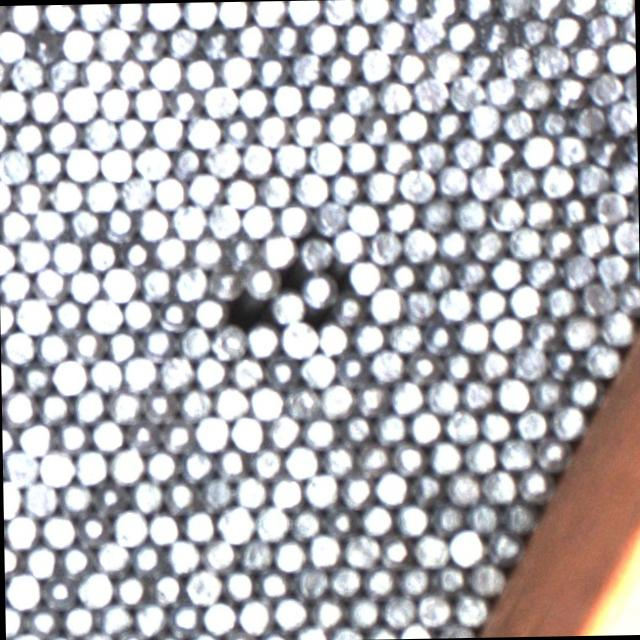tool: (21, 479, 58, 516), (296, 233, 332, 270), (562, 311, 598, 348), (63, 146, 99, 182), (358, 500, 394, 536), (14, 298, 50, 334), (98, 145, 134, 181), (572, 160, 608, 196), (378, 136, 414, 172), (558, 250, 594, 286), (580, 279, 616, 315), (204, 140, 240, 176), (108, 447, 144, 483), (418, 256, 454, 292), (196, 474, 232, 510), (82, 176, 118, 212), (37, 449, 73, 485), (342, 532, 378, 568), (216, 506, 252, 542), (472, 284, 507, 320), (237, 596, 272, 632), (233, 472, 268, 508), (367, 286, 402, 322), (320, 441, 356, 476), (2, 449, 37, 485), (342, 138, 378, 173), (202, 598, 237, 634), (272, 594, 308, 629), (303, 471, 338, 507), (248, 444, 284, 479), (498, 42, 533, 78), (582, 341, 618, 376), (222, 174, 258, 209), (58, 478, 93, 514), (341, 80, 376, 116), (54, 418, 90, 453), (96, 601, 132, 636), (510, 343, 546, 378), (481, 467, 516, 503), (57, 542, 92, 578), (310, 594, 345, 630), (394, 106, 430, 141), (15, 236, 50, 272), (386, 318, 421, 354), (230, 414, 265, 450), (152, 233, 188, 268), (307, 138, 342, 174), (164, 22, 199, 58), (68, 326, 103, 362), (170, 202, 205, 238), (100, 206, 136, 241), (201, 536, 236, 572), (486, 194, 522, 229), (122, 354, 158, 389), (268, 20, 303, 56), (80, 116, 116, 151), (394, 500, 429, 536), (489, 313, 524, 349), (253, 504, 288, 540), (306, 531, 341, 567), (582, 10, 617, 46), (3, 512, 38, 548), (212, 384, 248, 419), (388, 378, 424, 413), (336, 410, 372, 445), (300, 273, 336, 308), (186, 170, 221, 206), (258, 232, 294, 267), (264, 353, 300, 388), (92, 478, 127, 514), (183, 568, 220, 602), (224, 233, 258, 270), (498, 435, 533, 470), (230, 353, 265, 388), (350, 320, 385, 355), (503, 163, 538, 198), (221, 566, 256, 601), (77, 571, 112, 606), (27, 86, 62, 121), (17, 420, 52, 455), (1, 329, 36, 364), (402, 287, 437, 322), (201, 82, 236, 117), (248, 384, 283, 419), (22, 543, 57, 578), (71, 387, 106, 422), (45, 116, 80, 151), (418, 195, 453, 230), (475, 345, 510, 380), (134, 144, 169, 179), (413, 531, 448, 566), (193, 414, 228, 449), (506, 223, 541, 258), (459, 376, 494, 411), (268, 473, 303, 508), (521, 192, 556, 227), (35, 389, 70, 424), (164, 86, 199, 121), (86, 296, 121, 331), (453, 256, 488, 291), (243, 264, 278, 299), (469, 225, 504, 260), (407, 14, 442, 49), (311, 200, 346, 235), (530, 374, 565, 409), (447, 73, 482, 108), (140, 389, 175, 424), (353, 380, 388, 415), (484, 528, 519, 563), (284, 443, 318, 479), (380, 592, 416, 626), (555, 130, 589, 166), (428, 438, 462, 474), (507, 282, 541, 318), (114, 114, 150, 148), (130, 476, 164, 512), (292, 170, 328, 204), (66, 266, 102, 300), (272, 536, 306, 572), (192, 294, 226, 330), (324, 108, 358, 144), (408, 408, 442, 444), (60, 602, 96, 636), (338, 472, 372, 508), (374, 470, 408, 506), (97, 84, 131, 120), (398, 166, 432, 202), (462, 438, 498, 472), (174, 264, 208, 300), (382, 196, 416, 232), (416, 590, 450, 626), (362, 562, 396, 598), (426, 46, 462, 80), (194, 352, 228, 388), (368, 348, 404, 382), (300, 352, 336, 386), (270, 80, 304, 116), (430, 106, 464, 142), (598, 308, 634, 342), (34, 328, 68, 364), (288, 48, 322, 84), (158, 354, 192, 390), (404, 348, 440, 382), (444, 406, 478, 442), (434, 162, 468, 198), (178, 384, 212, 420), (24, 603, 60, 637), (412, 74, 446, 110), (40, 512, 74, 548), (266, 412, 300, 448), (594, 250, 630, 284), (332, 292, 368, 326), (544, 344, 580, 378), (440, 346, 474, 382), (514, 468, 550, 502), (239, 141, 273, 176), (6, 572, 40, 607), (102, 265, 136, 300), (96, 24, 130, 59), (449, 134, 484, 168), (456, 316, 490, 351), (74, 448, 108, 483), (258, 172, 292, 207), (48, 177, 82, 212), (152, 173, 186, 208), (282, 321, 316, 356), (254, 111, 288, 146), (373, 16, 407, 51), (147, 570, 182, 604), (106, 388, 140, 423), (372, 410, 407, 444), (273, 140, 307, 175), (50, 237, 84, 272), (328, 169, 362, 204), (62, 84, 96, 119), (339, 19, 373, 54), (303, 20, 338, 54), (179, 447, 213, 482), (453, 196, 488, 230), (120, 295, 154, 330), (289, 110, 324, 144), (175, 324, 210, 358), (514, 406, 548, 441), (355, 442, 390, 476), (442, 16, 477, 50), (60, 25, 94, 60), (185, 114, 220, 148), (453, 591, 488, 625), (327, 562, 362, 596), (118, 173, 152, 208), (52, 358, 86, 393), (104, 326, 139, 360), (10, 118, 44, 153), (570, 102, 604, 137), (1, 390, 35, 425), (445, 470, 480, 504), (276, 201, 310, 236), (94, 538, 129, 572), (436, 286, 471, 320), (526, 315, 560, 350), (302, 413, 336, 448), (576, 220, 611, 254), (346, 199, 380, 234), (479, 407, 513, 442), (208, 266, 242, 301), (430, 500, 465, 534), (377, 78, 412, 112), (156, 298, 191, 332), (433, 560, 467, 595), (190, 234, 224, 269), (12, 178, 46, 213), (476, 18, 511, 52), (358, 46, 392, 81), (32, 266, 67, 300), (181, 508, 216, 542), (366, 228, 400, 263), (130, 539, 164, 574), (568, 41, 602, 76), (384, 257, 418, 292), (112, 509, 146, 544), (392, 48, 427, 82), (164, 538, 199, 572), (533, 434, 567, 469), (390, 440, 425, 474), (330, 228, 364, 263), (401, 226, 435, 261), (135, 205, 169, 240), (218, 52, 253, 86), (425, 378, 459, 413), (483, 136, 518, 170), (359, 110, 394, 144), (542, 282, 577, 316), (322, 502, 356, 537), (396, 561, 431, 595), (138, 325, 173, 359), (592, 188, 626, 223), (550, 403, 584, 438), (234, 21, 268, 56), (167, 600, 201, 635), (469, 560, 503, 595), (230, 290, 265, 324), (501, 104, 534, 140), (514, 13, 550, 46), (144, 448, 178, 482), (150, 114, 184, 148), (520, 132, 554, 166), (51, 298, 85, 332), (468, 164, 502, 198), (132, 600, 166, 634), (284, 384, 318, 418), (112, 572, 146, 606), (533, 42, 567, 76), (548, 12, 582, 46), (466, 102, 500, 136), (28, 148, 62, 182), (31, 205, 65, 239), (210, 324, 244, 358), (256, 566, 290, 600), (240, 202, 274, 236), (206, 202, 240, 236), (162, 478, 196, 512), (304, 80, 338, 114), (238, 536, 272, 570), (420, 320, 454, 354), (348, 258, 382, 292), (334, 350, 368, 384), (90, 418, 124, 452), (410, 470, 444, 504), (466, 499, 500, 533), (130, 26, 164, 60), (318, 382, 352, 416), (66, 205, 100, 239), (168, 144, 202, 178), (324, 50, 358, 84), (288, 505, 322, 539), (80, 54, 114, 88), (488, 254, 522, 288), (45, 56, 79, 90), (434, 226, 468, 260), (220, 112, 254, 146), (524, 253, 558, 287), (114, 56, 148, 90), (148, 54, 182, 88), (482, 72, 516, 106), (138, 266, 172, 300), (516, 74, 550, 108), (414, 137, 448, 171), (586, 70, 620, 104), (10, 55, 44, 89), (448, 530, 482, 564), (496, 376, 530, 410), (126, 418, 160, 452), (538, 162, 572, 196), (346, 594, 380, 628), (88, 356, 122, 390), (534, 103, 568, 137), (362, 168, 396, 202), (254, 52, 288, 86), (146, 510, 180, 544), (270, 290, 304, 324), (292, 564, 326, 598), (213, 446, 247, 480), (556, 192, 590, 226), (552, 72, 586, 106), (315, 322, 349, 356), (588, 132, 622, 166), (182, 54, 216, 88), (120, 236, 154, 270), (540, 223, 574, 257), (18, 361, 52, 395), (40, 576, 74, 610), (502, 499, 536, 533), (378, 532, 412, 566), (74, 512, 108, 546), (247, 322, 280, 357), (605, 97, 637, 133), (603, 38, 636, 72), (160, 418, 193, 452), (131, 85, 165, 118), (200, 26, 233, 60), (85, 237, 118, 271), (236, 83, 269, 117), (27, 30, 61, 63), (0, 267, 32, 302), (0, 207, 32, 242), (462, 48, 497, 80), (567, 373, 600, 406), (608, 159, 638, 194), (0, 148, 29, 184), (41, 4, 76, 33), (0, 86, 27, 122), (611, 218, 639, 252), (112, 3, 145, 31), (216, 1, 250, 28), (77, 3, 111, 30), (181, 1, 215, 28), (8, 4, 40, 32), (146, 2, 180, 28), (0, 27, 26, 61), (252, 1, 286, 26), (321, 0, 355, 24), (286, 0, 320, 24), (616, 278, 640, 312), (390, 0, 423, 23), (425, 0, 458, 23), (355, 0, 389, 22), (495, 0, 529, 20), (398, 621, 434, 639), (438, 620, 474, 638), (4, 602, 23, 636), (460, 0, 494, 19), (618, 8, 636, 42), (3, 481, 20, 516), (329, 623, 363, 640), (293, 623, 327, 640), (530, 0, 563, 17), (4, 542, 20, 576), (0, 359, 16, 393), (564, 0, 598, 16), (600, 0, 633, 16), (0, 299, 15, 334), (0, 239, 14, 274), (2, 423, 16, 456), (0, 177, 12, 211), (0, 118, 10, 152)
